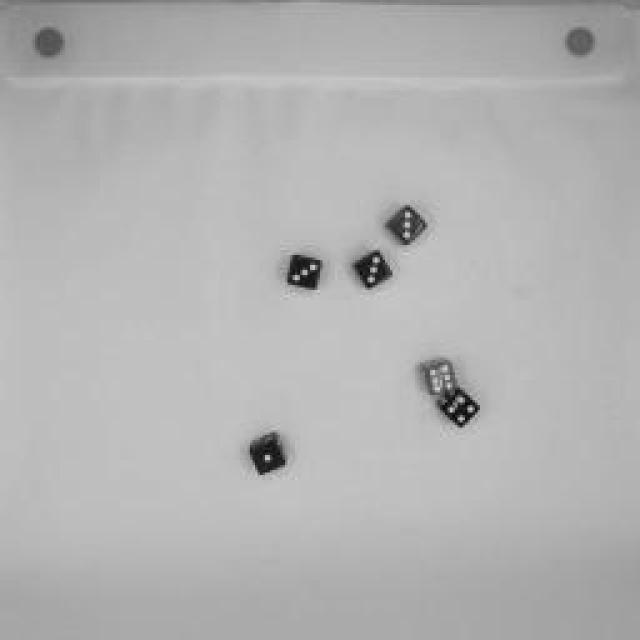dice_1: (239, 424, 296, 481)
dice_3: (379, 198, 431, 252), (282, 248, 328, 298), (350, 248, 400, 294)
dice_4: (436, 384, 484, 434)
dice_6: (415, 352, 465, 400)
